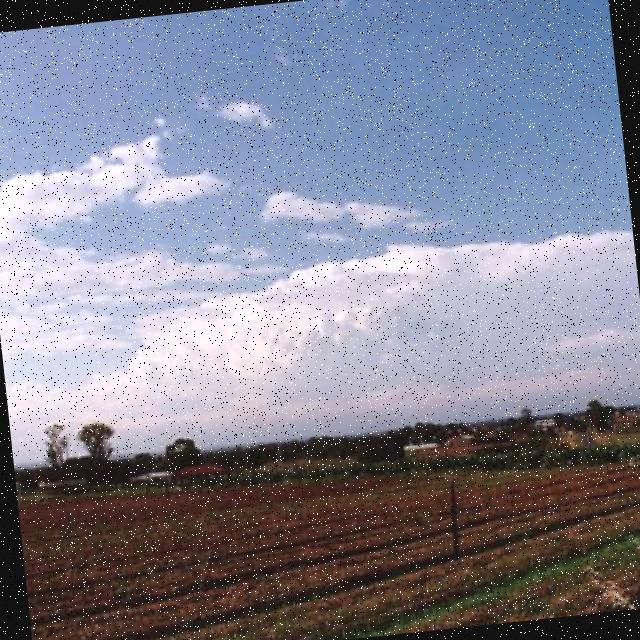St: (105, 219, 640, 435)
